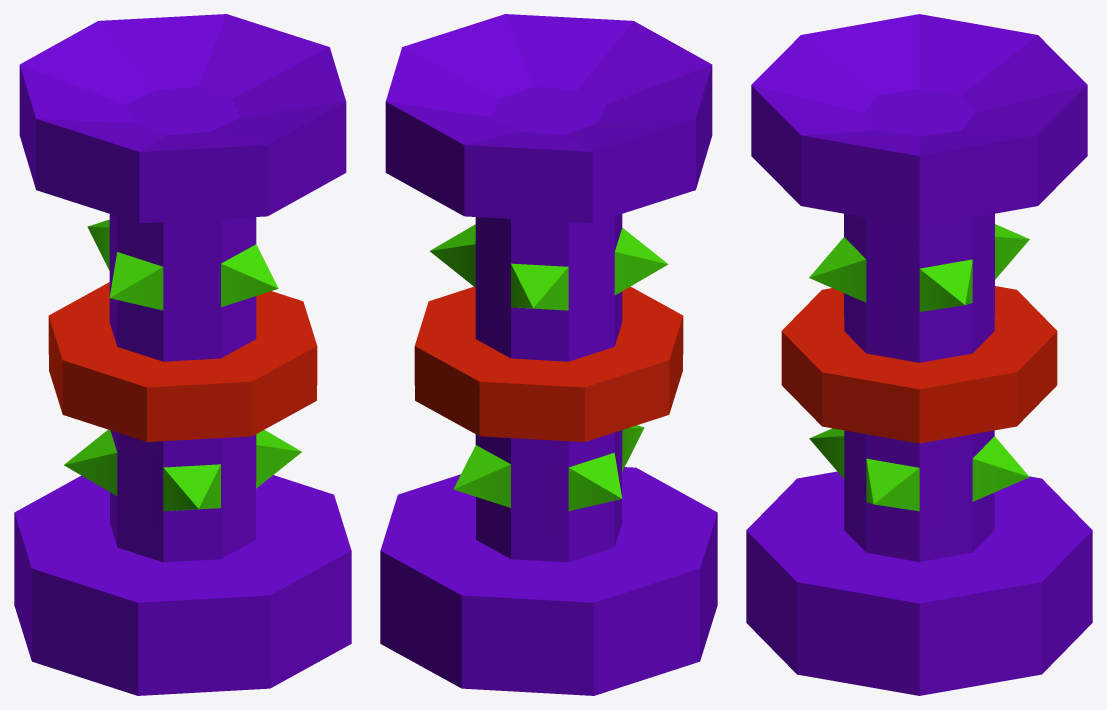
File: piedestal_fire.fbx
3 views of the same model, side by side, from view 1: azimuth 30°, elevation 25°; view 2: azimuth 150°, elevation 25°; view 3: azimuth 270°, elevation 25° (orthographic).
Parts seen in each view (by area): view 1: piedestal_fire; view 2: piedestal_fire; view 3: piedestal_fire.
Boxes of the visible parts, x1,y1,x2,y2 form: piedestal_fire: (14,14,351,695); piedestal_fire: (380,14,717,695); piedestal_fire: (746,14,1092,695).
Bounding box in the file's own units: 156 × 268 × 156.
